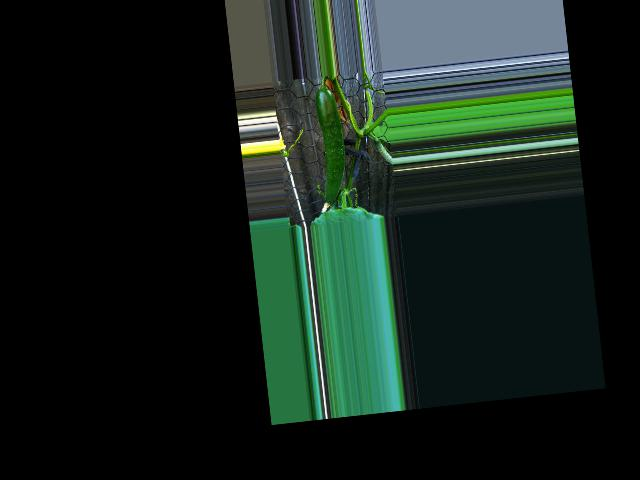cucumber: (313, 86, 350, 202)
